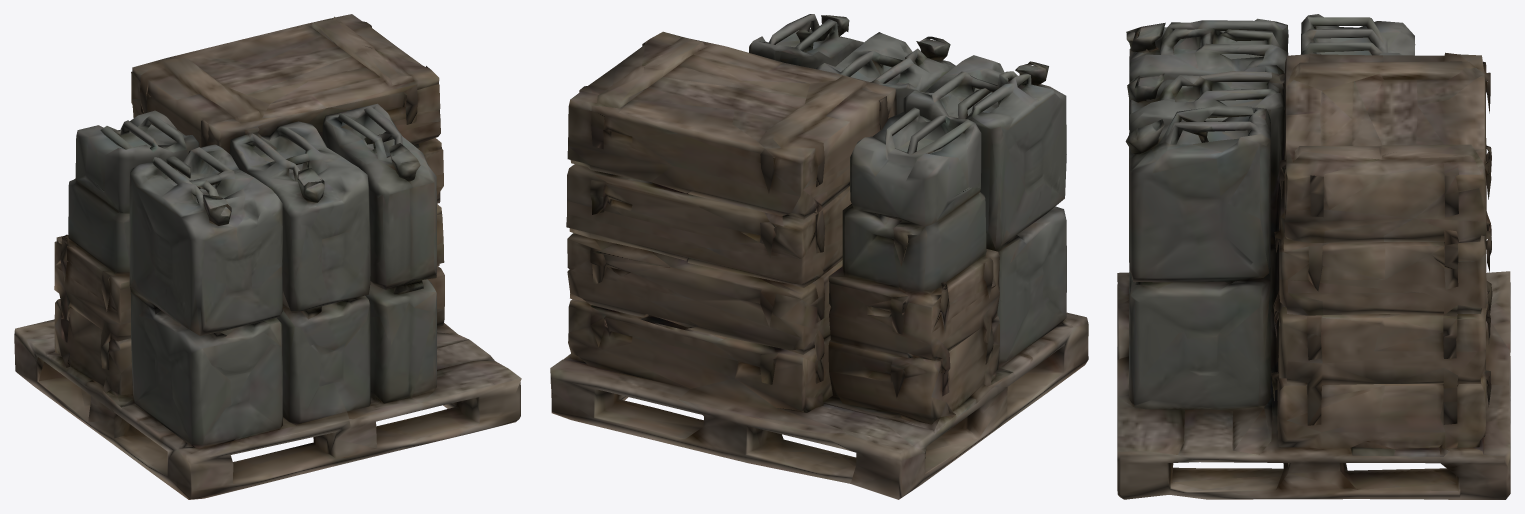
Rendered from prop_supplies.glb.
The picture shows the model from 3 angles, left to right: view 1: azimuth 30°, elevation 25°; view 2: azimuth 150°, elevation 25°; view 3: azimuth 270°, elevation 25°; orthographic projection. The views are drawn at different scales.
Parts seen in each view (by area): view 1: tripo_node_b3124f68-0ef2-4b57-a86c-f078040d4670; view 2: tripo_node_b3124f68-0ef2-4b57-a86c-f078040d4670; view 3: tripo_node_b3124f68-0ef2-4b57-a86c-f078040d4670.
Part boxes in pixels (x1,y1,x2,y2): tripo_node_b3124f68-0ef2-4b57-a86c-f078040d4670: (14, 14, 521, 499); tripo_node_b3124f68-0ef2-4b57-a86c-f078040d4670: (550, 14, 1088, 499); tripo_node_b3124f68-0ef2-4b57-a86c-f078040d4670: (1117, 14, 1510, 499).
Size of the model in its own units: 1 by 0.848 by 0.9209.
Materials: 1 (1 with a texture image).
